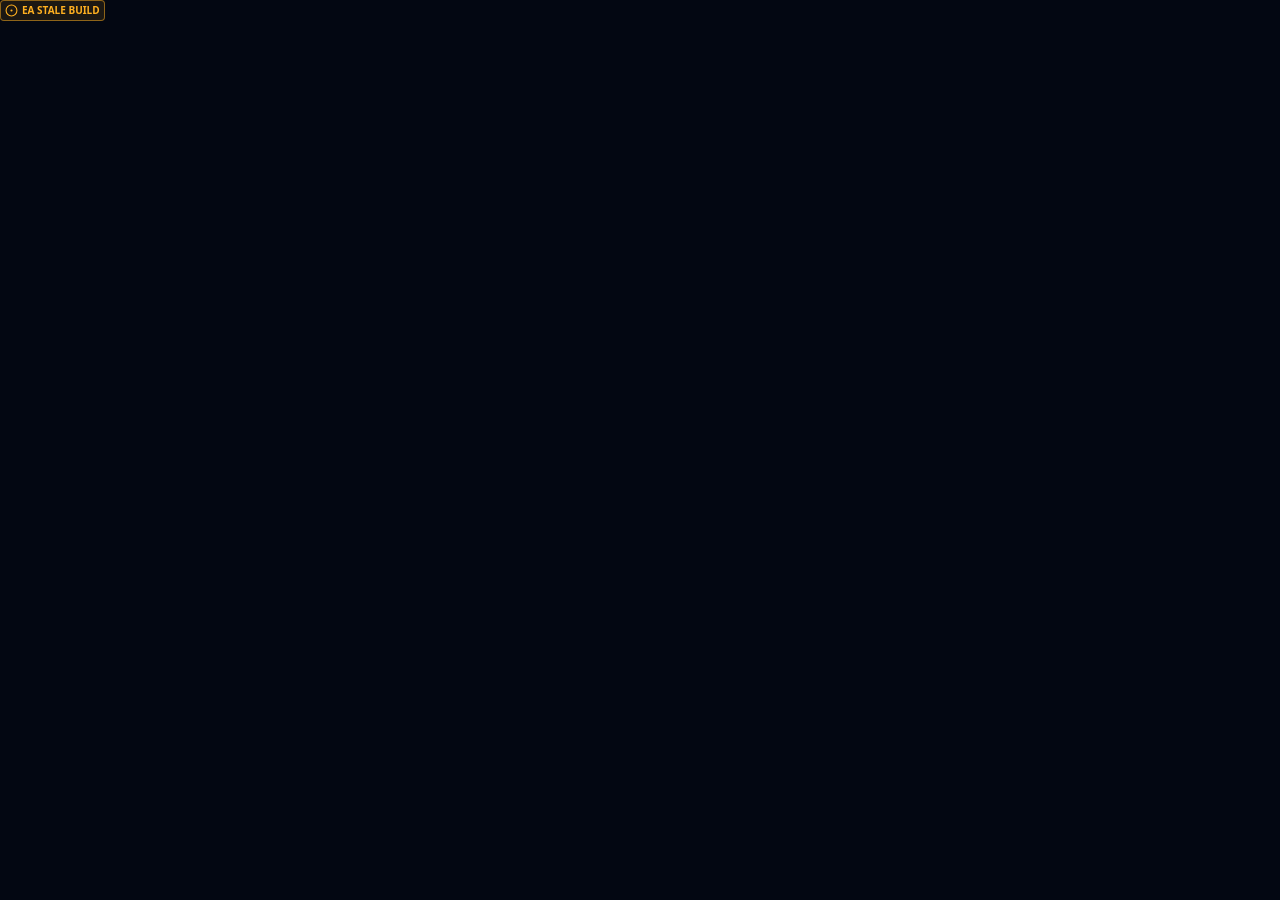
Test: the popup › explains what is stale, in the backend's words
The image size is (1280, 900).
What coordinates should you click on to do the following:
click the button "EA STALE BUILD"
I would click on:
 (52, 10)
Its box is left=0, top=0, right=105, bottom=21.
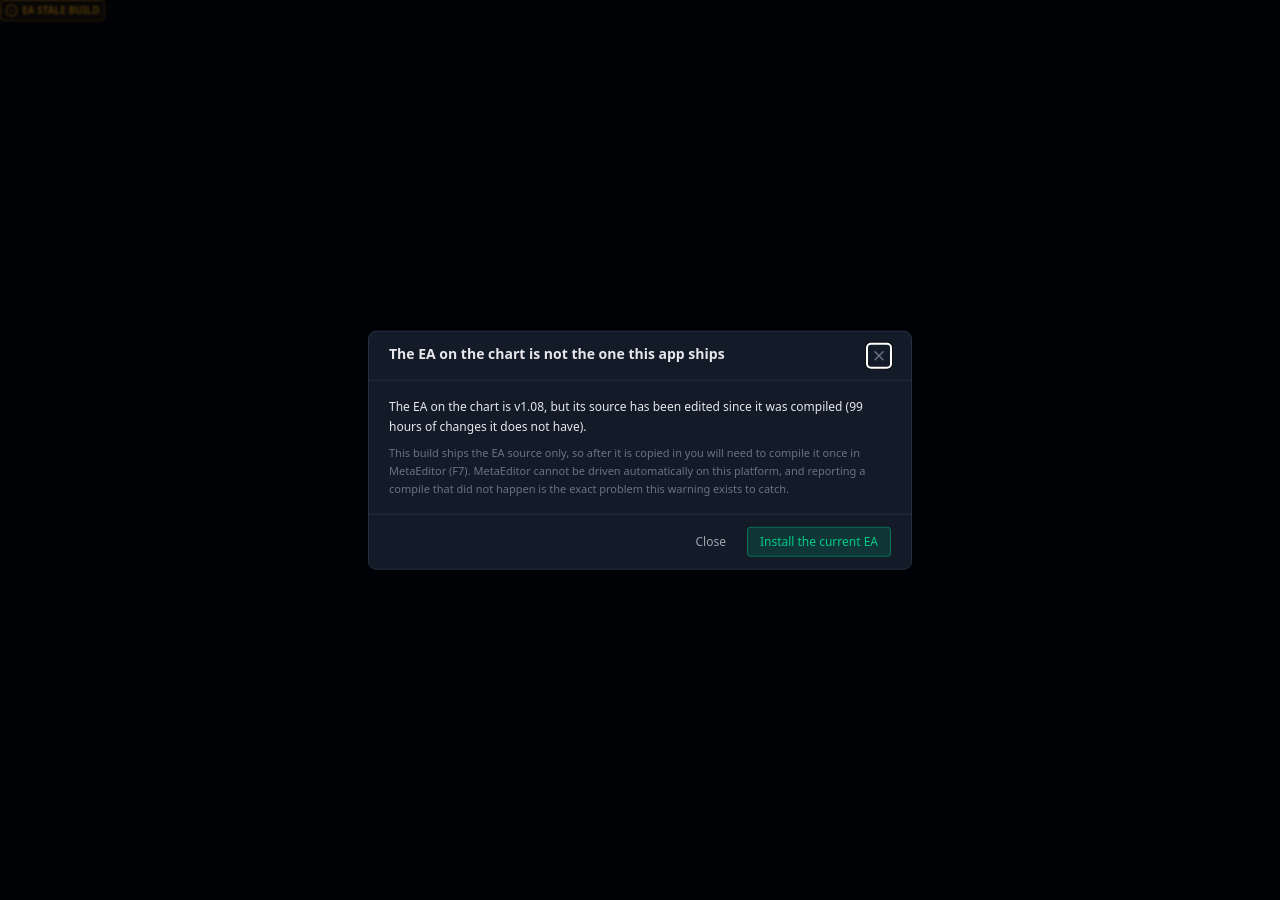
Expected: the text "99 hours of changes" is shown, left=389, top=398, right=863, bottom=434
